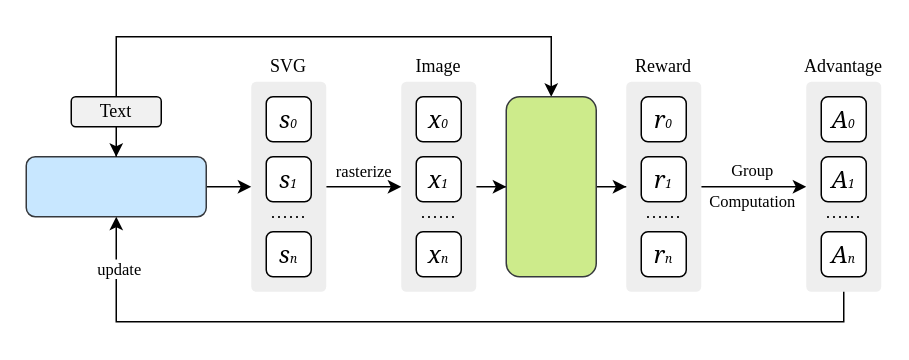
The diagram is 909 pixels wide and 360 high, and some of its shapes have lost their labels. The shapes that lost their labels are listed below. From the top down, each one's centre as x and y in pixels, then its label:
point 115,186: Pretrained LLM
point 550,186: Vision Encoder
